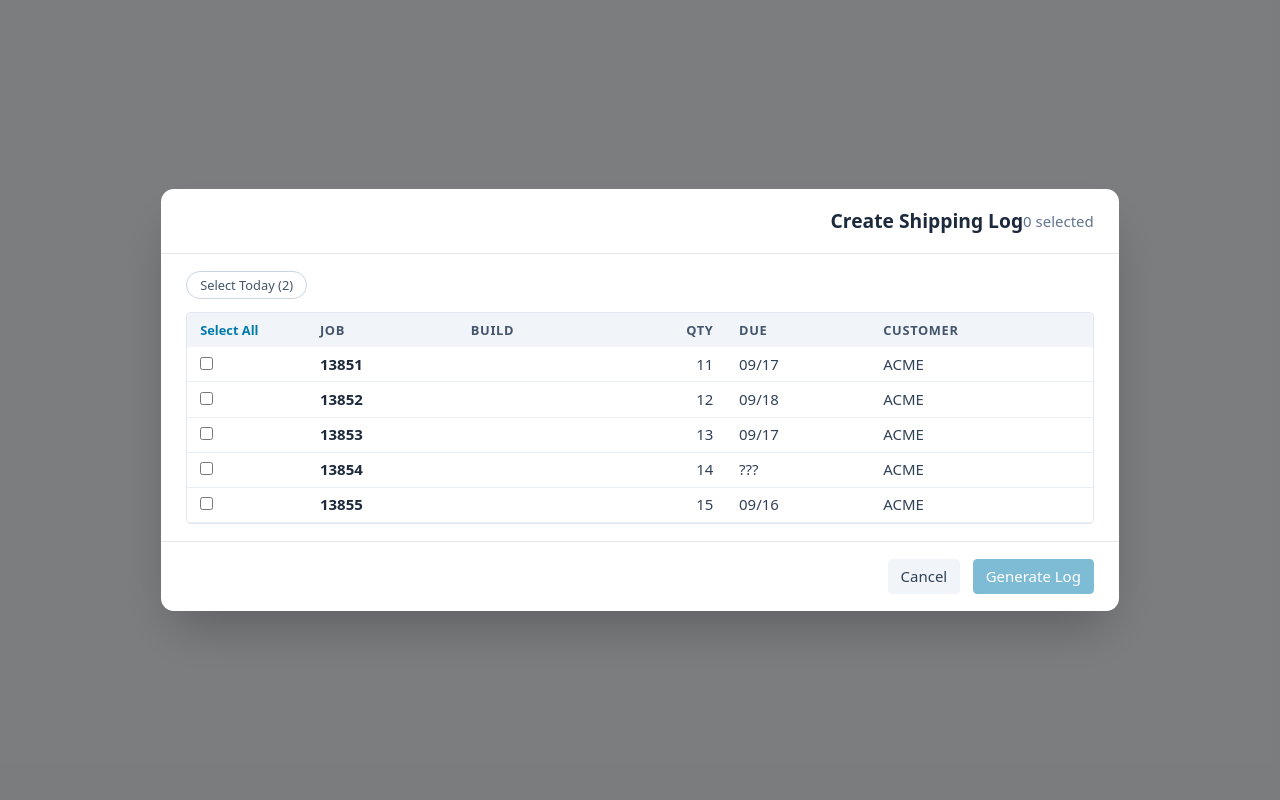
Scenario: CreateShippingLogModal › Select Today › replaces the selection with exactly the jobs due today
Step 1. Click the checkbox named "Select 13852" → point(207, 398), box x1=200 y1=392 x2=213 y2=405
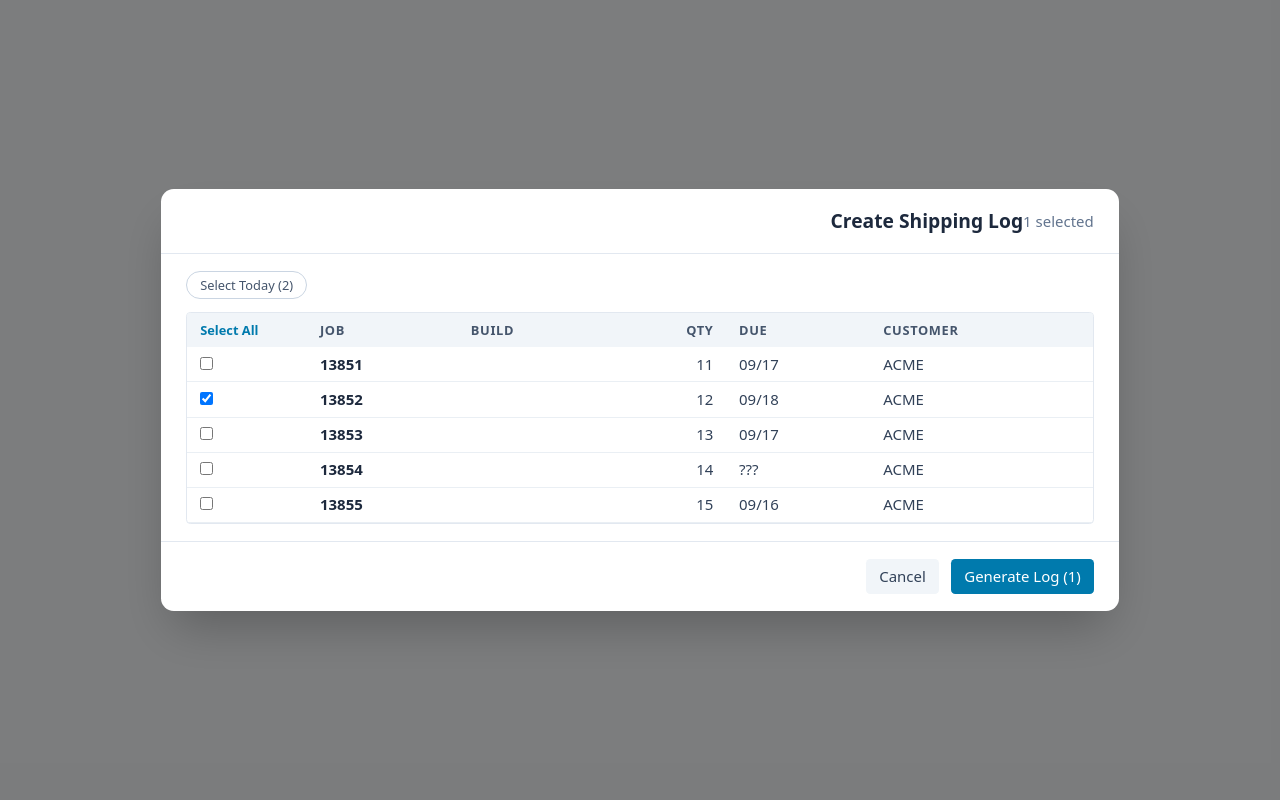
Step 2. Click the button with test id "shipping-log-select-today" → point(247, 285), box x1=186 y1=272 x2=307 y2=299
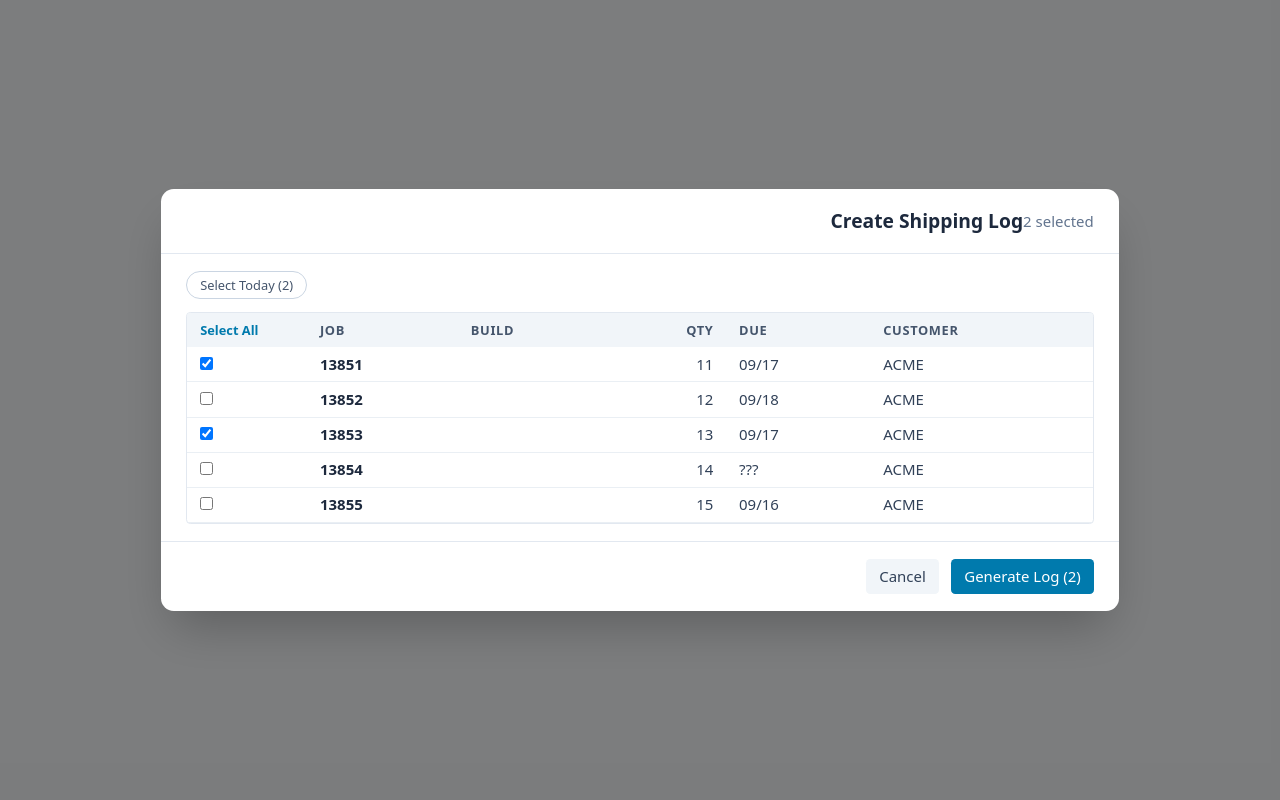
Result: the button with test id "shipping-log-generate" reads "Generate Log (2)" at x1=951 y1=560 x2=1094 y2=594
